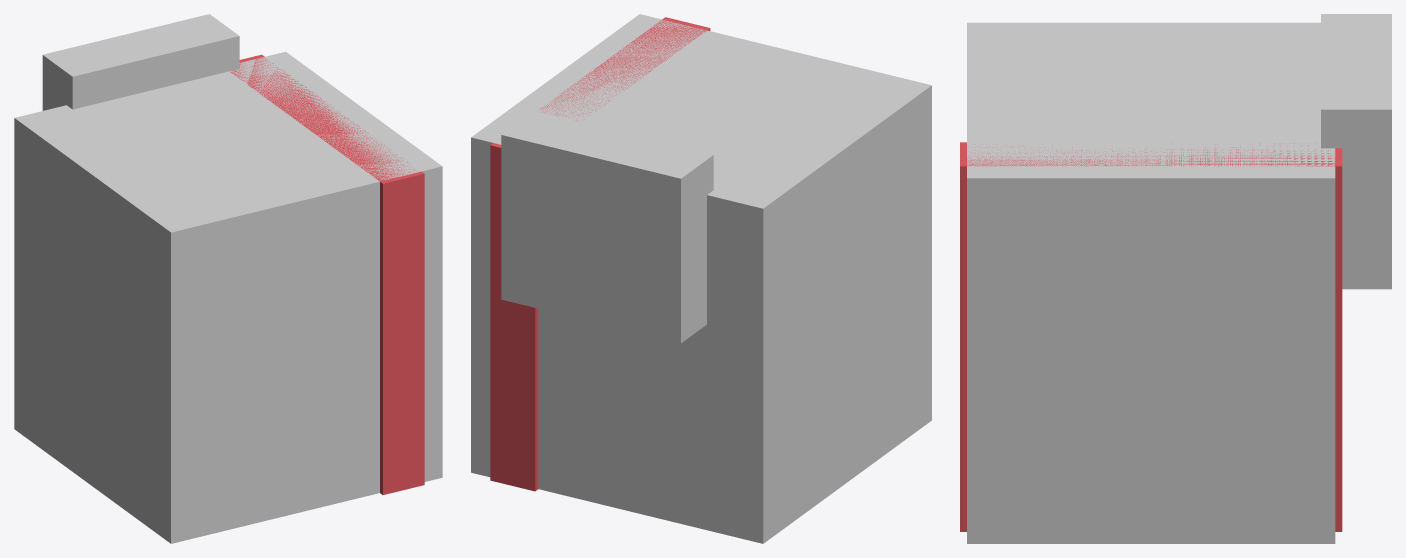
File: piloto_canela.glb
3 renders of one model, left to right at view 1: azimuth 30°, elevation 25°; view 2: azimuth 150°, elevation 25°; view 3: azimuth 270°, elevation 25°, orthographic. The views are drawn at different scales.
Parts seen in each view (by area): view 1: piloto_canela; view 2: piloto_canela; view 3: piloto_canela.
Part boxes in pixels (left/top/right/bottom): piloto_canela: left=14, top=14, right=442, bottom=543; piloto_canela: left=471, top=14, right=931, bottom=543; piloto_canela: left=960, top=14, right=1391, bottom=543.
Size of the model in its own units: 0.26 by 0.315 by 0.305.
